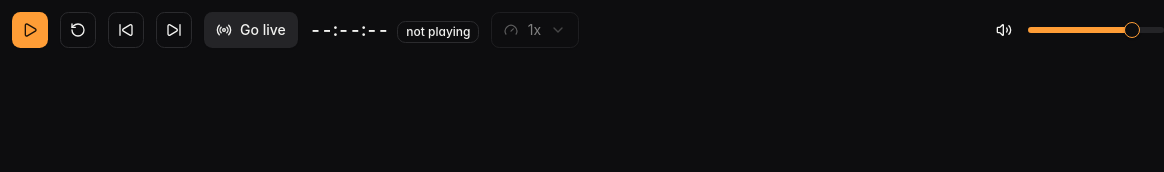
Test: the previous and next sound buttons › say so plainly when the search fails, and are ready to try again
This screenshot has width=1164, height=172.
What coordinates should you click on to do the following:
click the button named "Next sound"
I would click on:
 (174, 30)
Its box is [156,12,192,48].
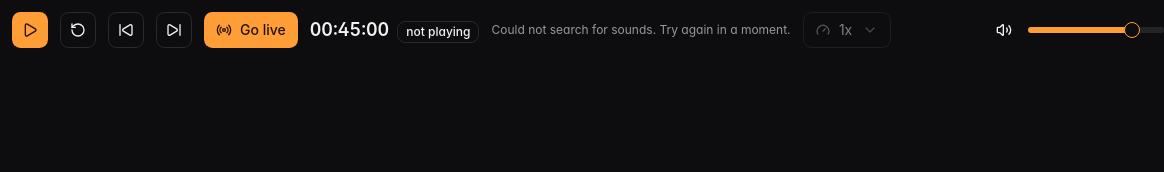
Now the message shows "Could not search for sounds", box [492,22,791,37]
